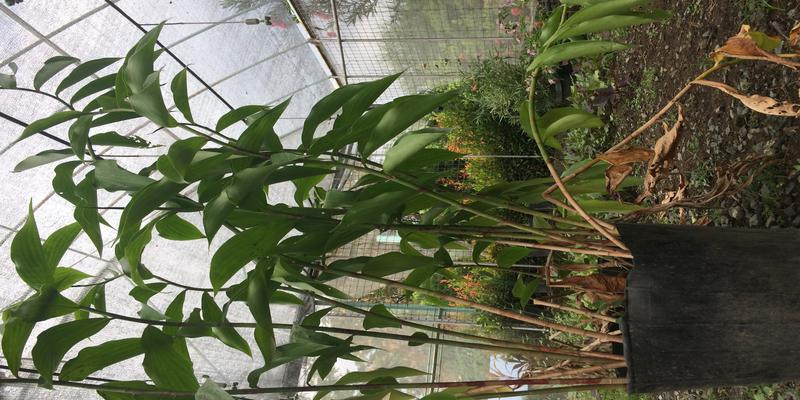Insulin: (19, 86, 623, 385)
